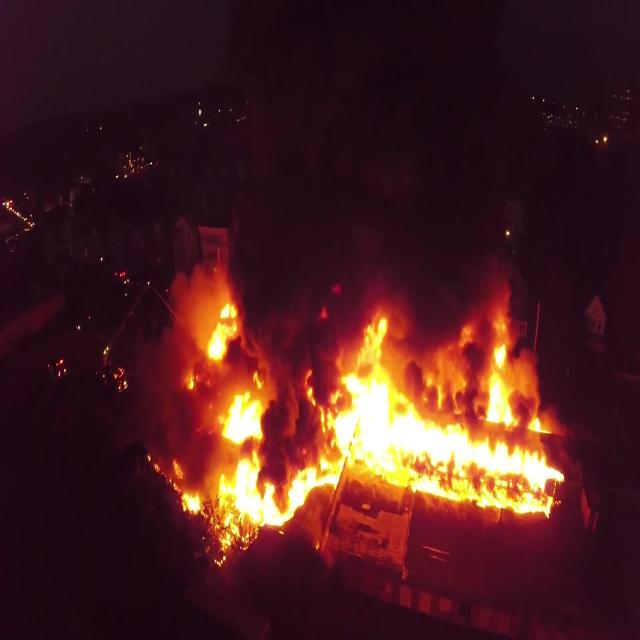Fire: (182, 308, 564, 562)
Smoke: (228, 167, 502, 486)
